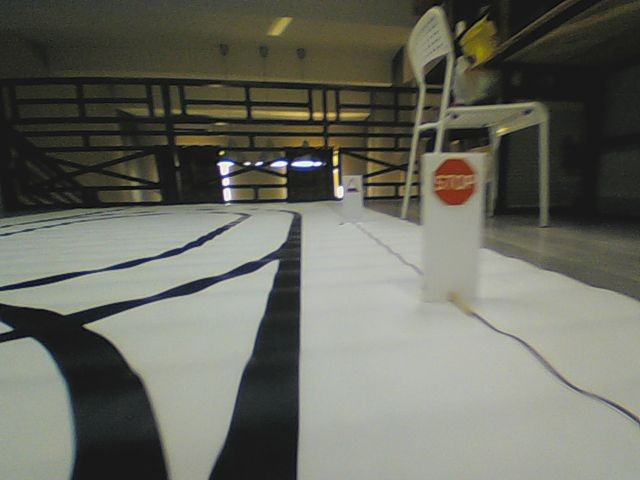Stop: (431, 157, 477, 206)
